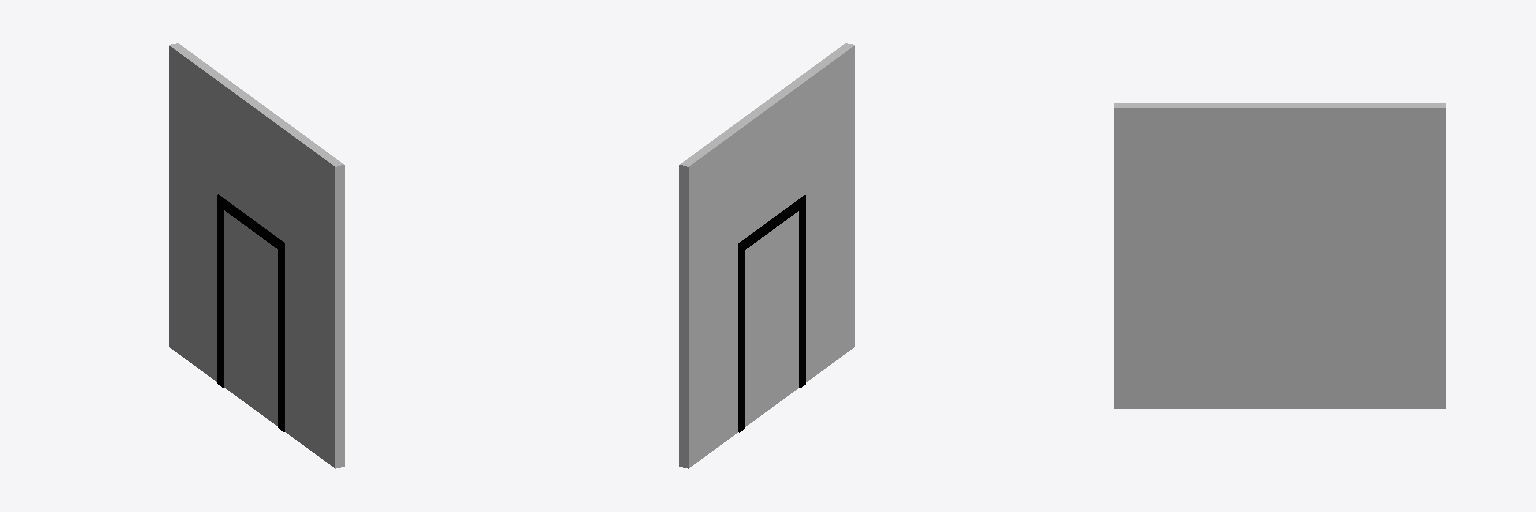
Rendered from wall_door.obj.
3 views of the same model, side by side, from view 1: azimuth 30°, elevation 25°; view 2: azimuth 150°, elevation 25°; view 3: azimuth 270°, elevation 25° (orthographic).
Parts seen in each view (by area): view 1: wall_door; view 2: wall_door; view 3: wall_door.
Boxes of the visible parts, x1=… form: wall_door: x1=169, y1=43, x2=344, y2=468; wall_door: x1=679, y1=43, x2=854, y2=468; wall_door: x1=1114, y1=103, x2=1445, y2=408.
Size of the model in its own units: 0.14 by 3.83 by 3.83.